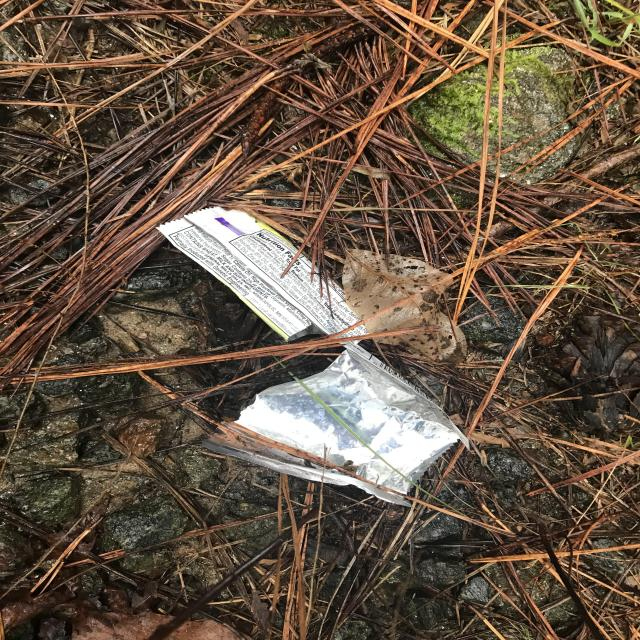litter: (235, 349, 471, 496), (159, 207, 367, 345)
